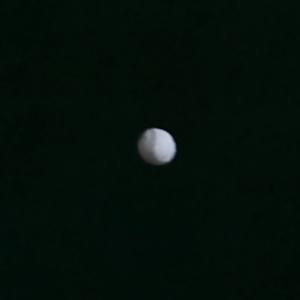ball: (136, 127, 178, 168)
